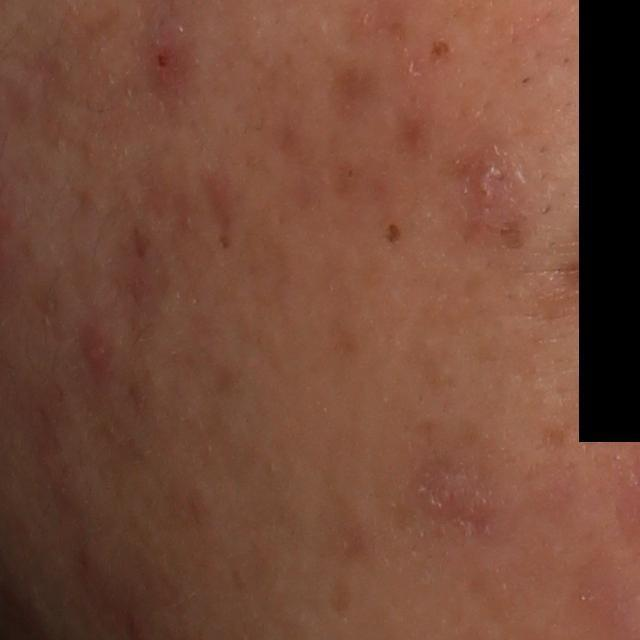papule: (452, 141, 528, 215), (75, 323, 120, 384), (142, 28, 184, 81)
